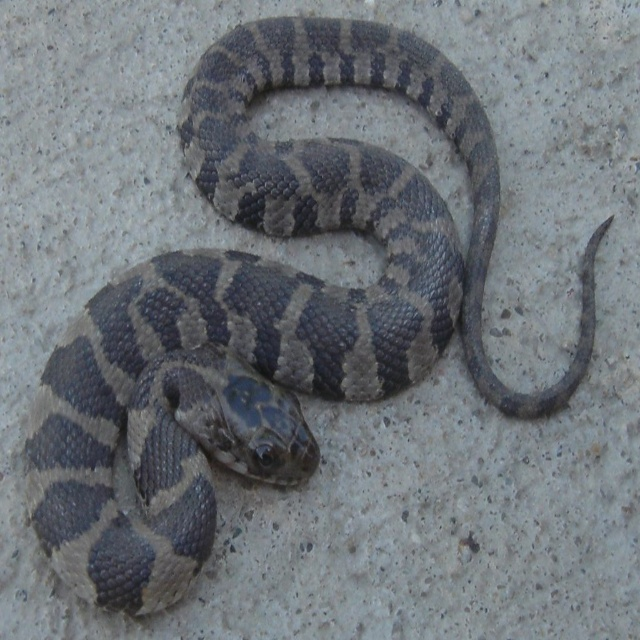Snake: (20, 20, 612, 614)
